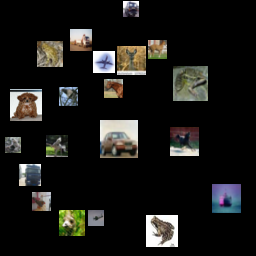airplane: (40, 161, 78, 199)
automobile: (132, 60, 164, 92), (147, 154, 169, 176), (113, 196, 129, 212), (22, 29, 38, 45)
bird: (156, 187, 188, 219)
cat: (200, 181, 222, 203), (88, 203, 107, 222), (139, 1, 158, 20)
deer: (99, 158, 134, 193), (150, 124, 172, 146), (173, 110, 192, 129)
dog: (71, 38, 100, 67), (179, 63, 205, 89), (204, 153, 223, 172)
frog: (175, 29, 207, 61)
